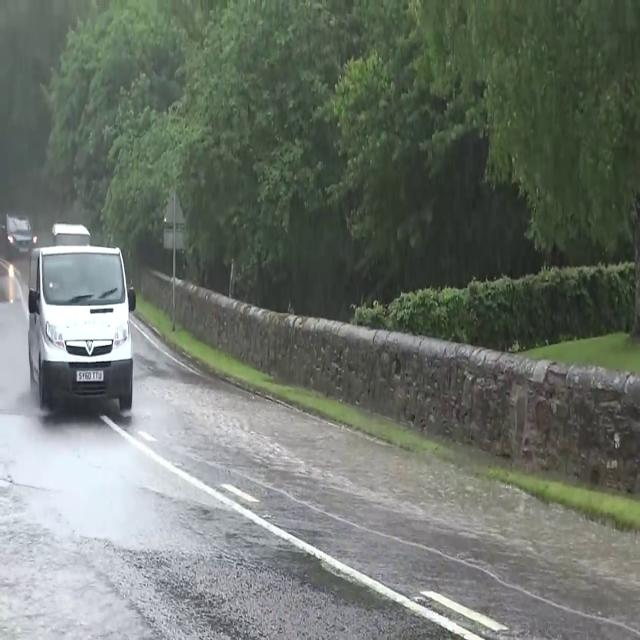license-plate-annotation: (74, 369, 107, 384)
